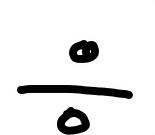div: (18, 40, 133, 134)
